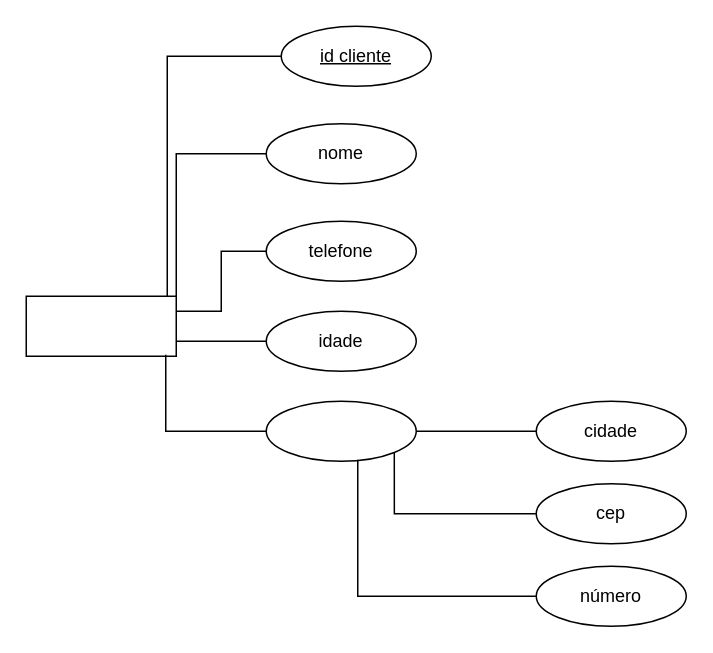
The diagram is 713 pixels wide and 653 high, and some of its shapes have lost their labels. The centre of each missing label's shape, as x and y in pixels:
"CLIENTE" goes at point 100,325.
"endereço" goes at point 340,430.
